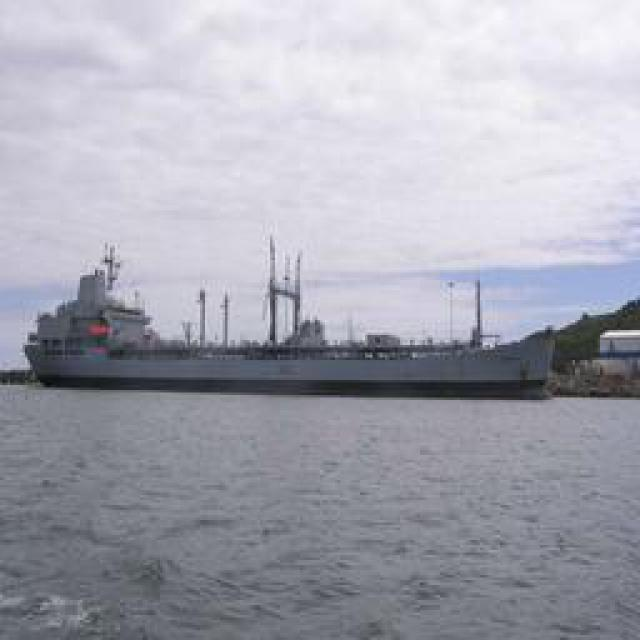Ship: (27, 244, 560, 397)
